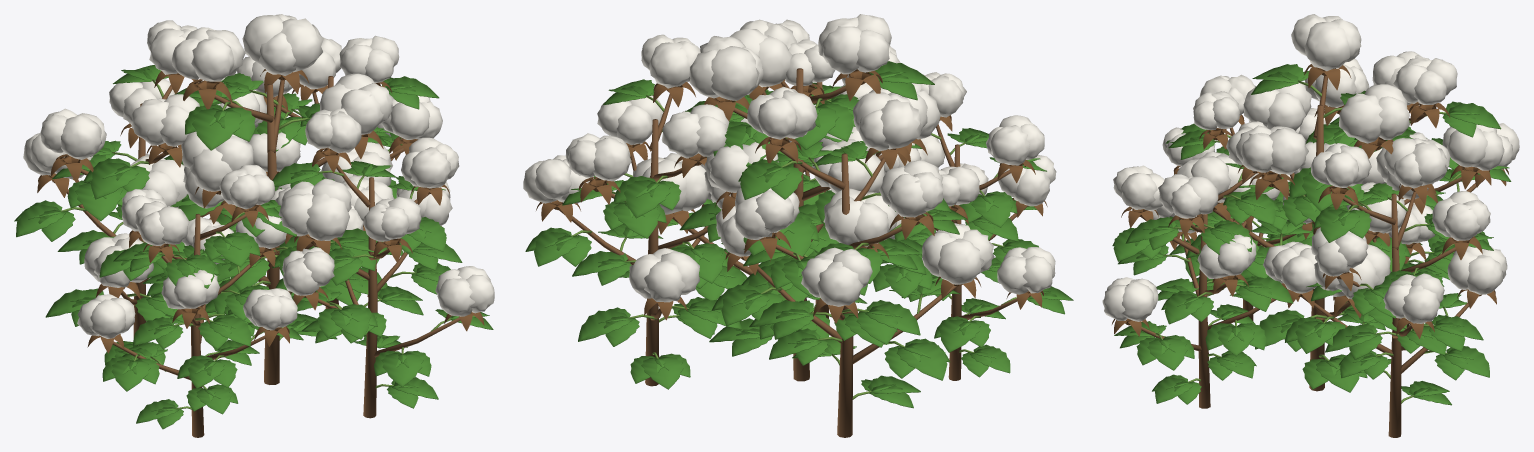
The model's file is wild_cotton.glb.
3 views of the same model, side by side, from view 1: azimuth 30°, elevation 25°; view 2: azimuth 150°, elevation 25°; view 3: azimuth 270°, elevation 25° (orthographic). The views are drawn at different scales.
Visible parts, largest first — view 1: Boll6_Fluff, Boll2_Fluff, Boll7_Fluff, Boll5_Fluff, Boll4_Fluff, Boll5_Fluff.002, Boll6_Fluff.002, Boll0_Fluff.003, Boll6_Fluff.003, Leaf7_1, Boll7_Fluff.001, Boll5_Fluff.003 (+72 smaller); view 2: Boll6_Fluff, Boll7_Fluff, Boll0_Fluff.002, Boll6_Fluff.002, Boll2_Fluff.002, Boll0_Fluff.001, Boll1_Fluff, Boll7_Fluff.002, Boll5_Fluff.002, Boll6_Fluff.001, Boll4_Fluff.002, Boll5_Fluff.001 (+61 smaller); view 3: Boll6_Fluff, Boll7_Fluff, Boll5_Fluff, Boll6_Fluff.001, Boll4_Fluff, Boll2_Fluff.001, Boll7_Fluff.002, Boll0_Fluff.001, Boll5_Fluff.001, Boll6_Fluff.003, Boll4_Fluff.002, Boll7_Fluff.001 (+65 smaller).
Part boxes in pixels (box(x1,y1,x2,y2)): Boll6_Fluff: box(242, 14, 323, 75); Boll2_Fluff: box(278, 178, 351, 240); Boll7_Fluff: box(172, 27, 245, 81); Boll5_Fluff: box(319, 73, 393, 134); Boll4_Fluff: box(181, 131, 253, 191); Boll5_Fluff.002: box(40, 108, 106, 159); Boll6_Fluff.002: box(131, 94, 199, 146); Boll0_Fluff.003: box(435, 266, 494, 316); Boll6_Fluff.003: box(401, 137, 459, 188); Leaf7_1: box(185, 101, 255, 150); Boll7_Fluff.001: box(339, 35, 399, 82); Boll5_Fluff.003: box(363, 197, 421, 241); Boll6_Fluff: box(689, 36, 763, 100); Boll7_Fluff: box(818, 14, 891, 74); Boll0_Fluff.002: box(922, 223, 994, 284); Boll6_Fluff.002: box(853, 92, 921, 151); Boll2_Fluff.002: box(801, 247, 872, 306); Boll0_Fluff.001: box(629, 248, 699, 302); Boll1_Fluff: box(823, 188, 897, 246); Boll7_Fluff.002: box(747, 86, 817, 139); Boll5_Fluff.002: box(879, 160, 943, 217); Boll6_Fluff.001: box(661, 104, 729, 158); Boll4_Fluff.002: box(733, 188, 799, 239); Boll5_Fluff.001: box(566, 133, 631, 181); Boll6_Fluff: box(1339, 84, 1409, 143); Boll7_Fluff: box(1291, 14, 1361, 71); Boll5_Fluff: box(1235, 125, 1308, 174); Boll6_Fluff.001: box(1384, 138, 1447, 188); Boll4_Fluff: box(1243, 83, 1311, 130); Boll2_Fluff.001: box(1383, 273, 1444, 323); Boll7_Fluff.002: box(1393, 58, 1457, 104); Boll0_Fluff.001: box(1447, 246, 1507, 294); Boll5_Fluff.001: box(1432, 191, 1490, 240); Boll6_Fluff.003: box(1158, 174, 1218, 218); Boll4_Fluff.002: box(1442, 124, 1504, 170); Boll7_Fluff.001: box(1311, 143, 1371, 187).
Size of the model in its own units: 0.8642 by 0.7008 by 0.7722.
